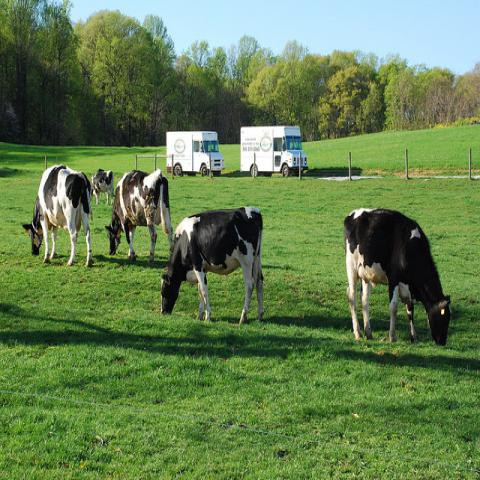truck: (241, 125, 306, 177), (166, 132, 225, 176)
